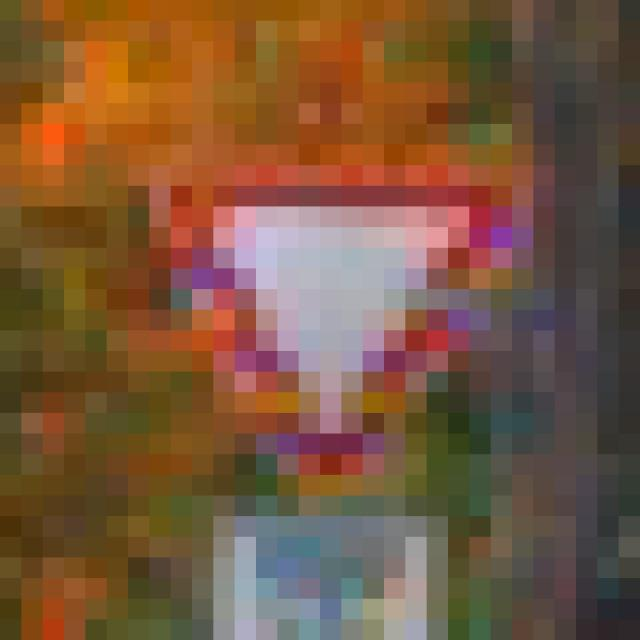Give Way: (129, 125, 534, 538)
